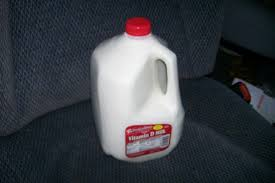milk: (88, 16, 188, 160)
